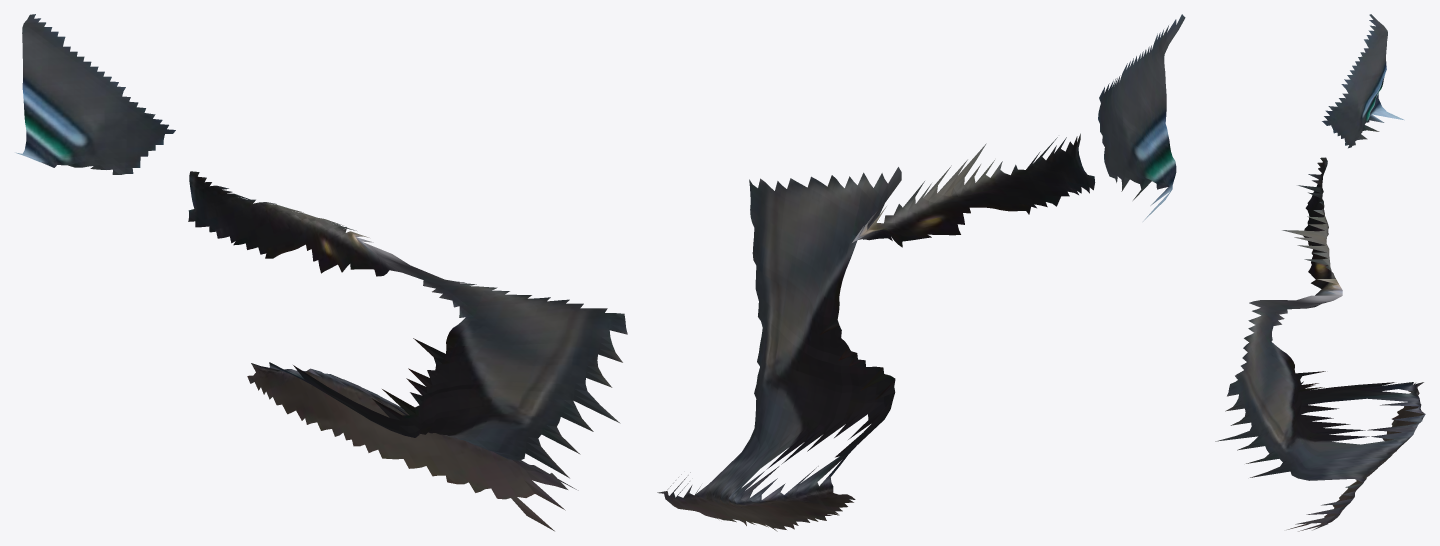
The model's file is observed-surface.glb.
3 views of the same model, side by side, from view 1: azimuth 30°, elevation 25°; view 2: azimuth 150°, elevation 25°; view 3: azimuth 270°, elevation 25° (orthographic). The views are drawn at different scales.
Visible parts, largest first — view 1: geometry_0; view 2: geometry_0; view 3: geometry_0.
Boxes of the visible parts, bbox=[...] form: geometry_0: bbox=[15, 14, 627, 531]; geometry_0: bbox=[657, 14, 1185, 531]; geometry_0: bbox=[1215, 14, 1425, 531].
Size of the model in its own units: 0.4915 by 0.5527 by 0.2834.
1 material, 1 textured.
